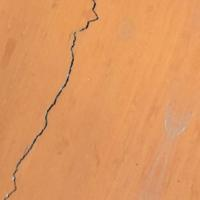crack: (0, 3, 114, 199)
